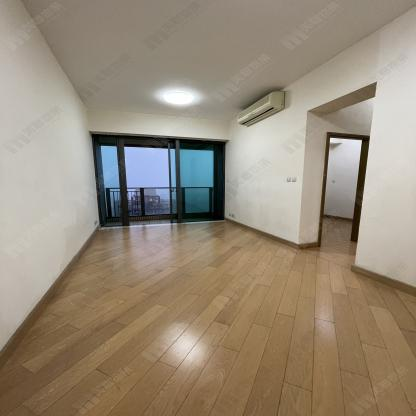AC: (237, 91, 285, 127)
